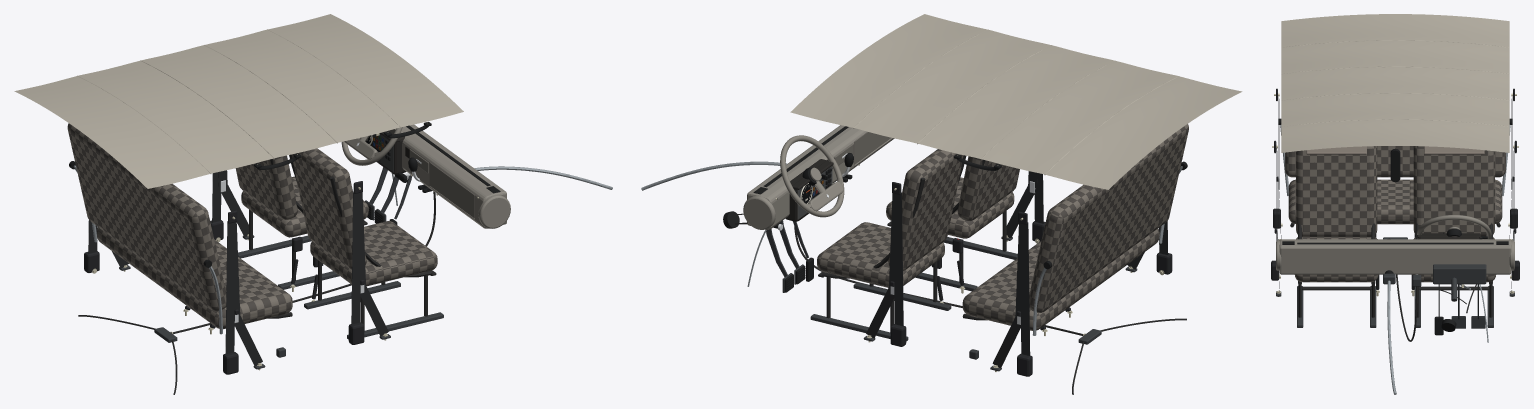
File: interieur.glb
3 renders of one model, left to right at view 1: azimuth 30°, elevation 25°; view 2: azimuth 150°, elevation 25°; view 3: azimuth 270°, elevation 25°, orthographic. The views are drawn at different scales.
Visible parts, largest first — view 1: garnitures.ciel-pavillon, banquette.tissu-siege, sieges-av.tissu-siege.001, ceintures.sangle, sieges-av.tissu-siege, planche-bord.planche, ceintures.plastique-ceinture, planche-bord.planche-creux, sieges-av.acier-noirci.001, sieges-av.tube-siege.001, volant.volant, sieges-av.acier-noirci (+5 smaller); view 2: garnitures.ciel-pavillon, banquette.tissu-siege, sieges-av.tissu-siege, ceintures.sangle, sieges-av.tissu-siege.001, planche-bord.planche, ceintures.plastique-ceinture, volant.volant, sieges-av.acier-noirci, sieges-av.tube-siege, planche-bord.planche-fonce, planche-bord.planche-creux (+5 smaller); view 3: garnitures.ciel-pavillon, sieges-av.tissu-siege.001, planche-bord.planche, sieges-av.tissu-siege, banquette.tissu-siege, pedalier.acier-noirci, planche-bord.noir, ceintures.plastique-ceinture, planche-bord.pare-soleil, ceintures.sangle, sieges-av.tube-siege.001, sieges-av.tube-siege (+7 smaller).
Boxes of the visible parts, x1,y1,x2,y2 form: garnitures.ciel-pavillon: [14, 14, 463, 188]; banquette.tissu-siege: [67, 123, 292, 329]; sieges-av.tissu-siege.001: [291, 148, 437, 286]; ceintures.sangle: [88, 170, 388, 366]; sieges-av.tissu-siege: [235, 155, 368, 237]; planche-bord.planche: [394, 124, 510, 228]; ceintures.plastique-ceinture: [84, 181, 364, 374]; planche-bord.planche-creux: [409, 149, 474, 218]; sieges-av.acier-noirci.001: [304, 281, 443, 339]; sieges-av.tube-siege.001: [289, 154, 436, 331]; volant.volant: [341, 127, 402, 165]; sieges-av.acier-noirci: [238, 235, 339, 289]; garnitures.ciel-pavillon: [790, 14, 1242, 189]; banquette.tissu-siege: [962, 124, 1188, 330]; sieges-av.tissu-siege: [817, 149, 963, 287]; ceintures.sangle: [866, 171, 1168, 368]; sieges-av.tissu-siege.001: [886, 156, 1019, 238]; planche-bord.planche: [743, 125, 894, 229]; ceintures.plastique-ceinture: [890, 182, 1172, 376]; volant.volant: [780, 135, 844, 217]; sieges-av.acier-noirci: [810, 282, 951, 341]; sieges-av.tube-siege: [818, 155, 966, 332]; planche-bord.planche-fonce: [785, 158, 834, 221]; planche-bord.planche-creux: [834, 131, 891, 165]; garnitures.ciel-pavillon: [1281, 14, 1509, 152]; sieges-av.tissu-siege.001: [1295, 146, 1378, 282]; planche-bord.planche: [1276, 239, 1514, 274]; sieges-av.tissu-siege: [1412, 146, 1495, 282]; banquette.tissu-siege: [1285, 146, 1505, 224]; pedalier.acier-noirci: [1433, 264, 1486, 328]; planche-bord.noir: [1282, 148, 1508, 244]; ceintures.plastique-ceinture: [1271, 88, 1519, 289]; planche-bord.pare-soleil: [1306, 146, 1484, 154]; ceintures.sangle: [1276, 97, 1514, 291]; sieges-av.tube-siege.001: [1298, 223, 1375, 317]; sieges-av.tube-siege: [1415, 223, 1492, 317].
Bounding box in the file's own units: 2.94 × 1.24 × 1.4.
28 materials, 1 textured.
